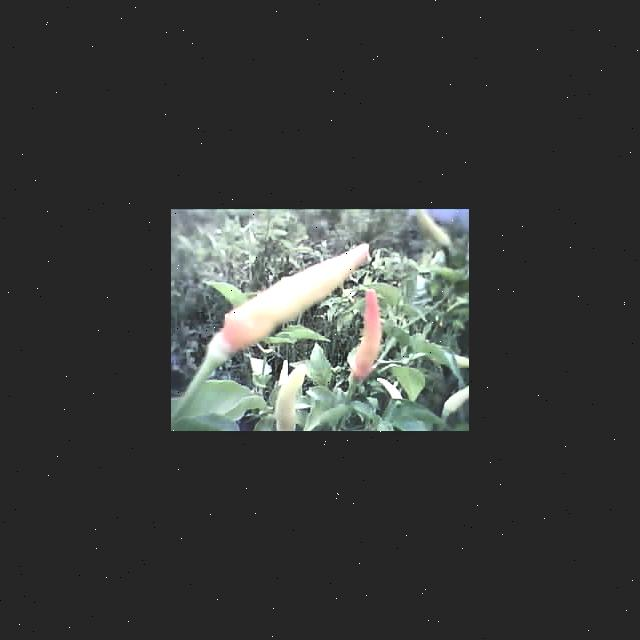Cabai: (212, 241, 351, 352), (354, 290, 383, 382)
